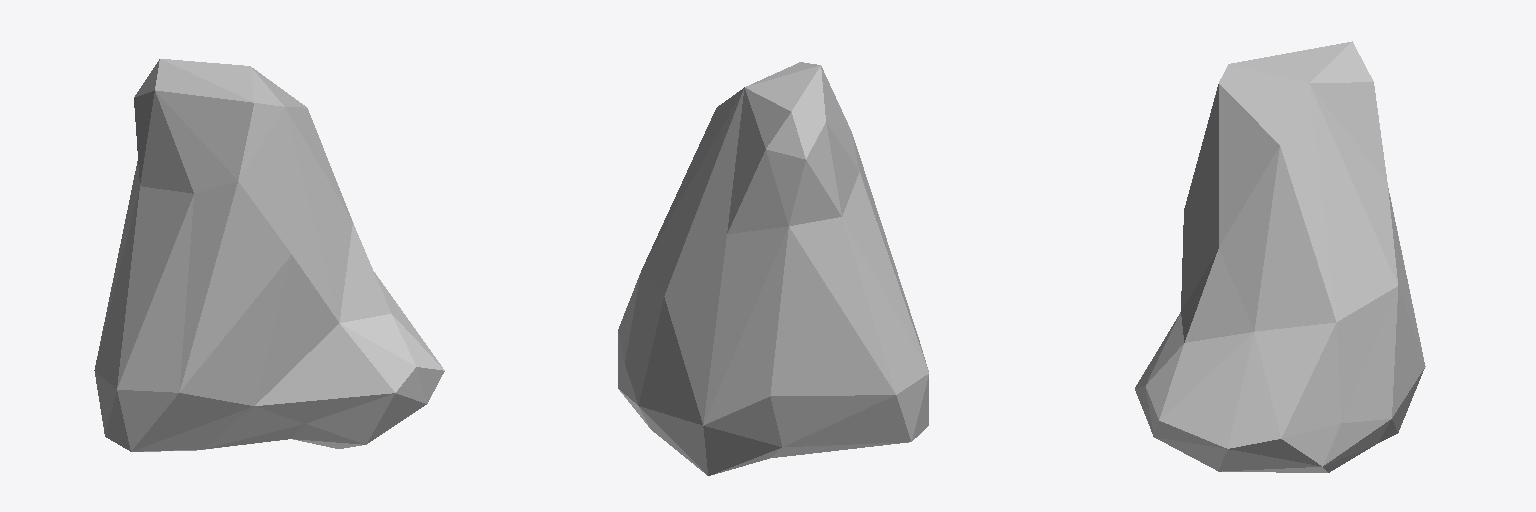
File: rock-3.obj
3 views of the same model, side by side, from view 1: azimuth 30°, elevation 25°; view 2: azimuth 150°, elevation 25°; view 3: azimuth 270°, elevation 25° (orthographic).
Visible parts, largest first — view 1: Object_460; view 2: Object_460; view 3: Object_460.
Boxes of the visible parts, <box> form: Object_460: <box>94,59,444,451</box>; Object_460: <box>618,62,928,475</box>; Object_460: <box>1135,41,1425,472</box>.
Size of the model in its own units: 7.34 by 8.65 by 6.15.